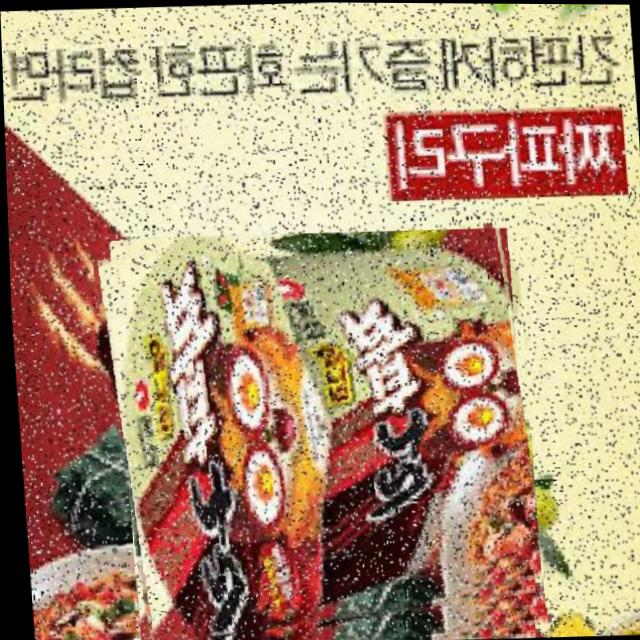Miscellaneous: (94, 224, 540, 640)
